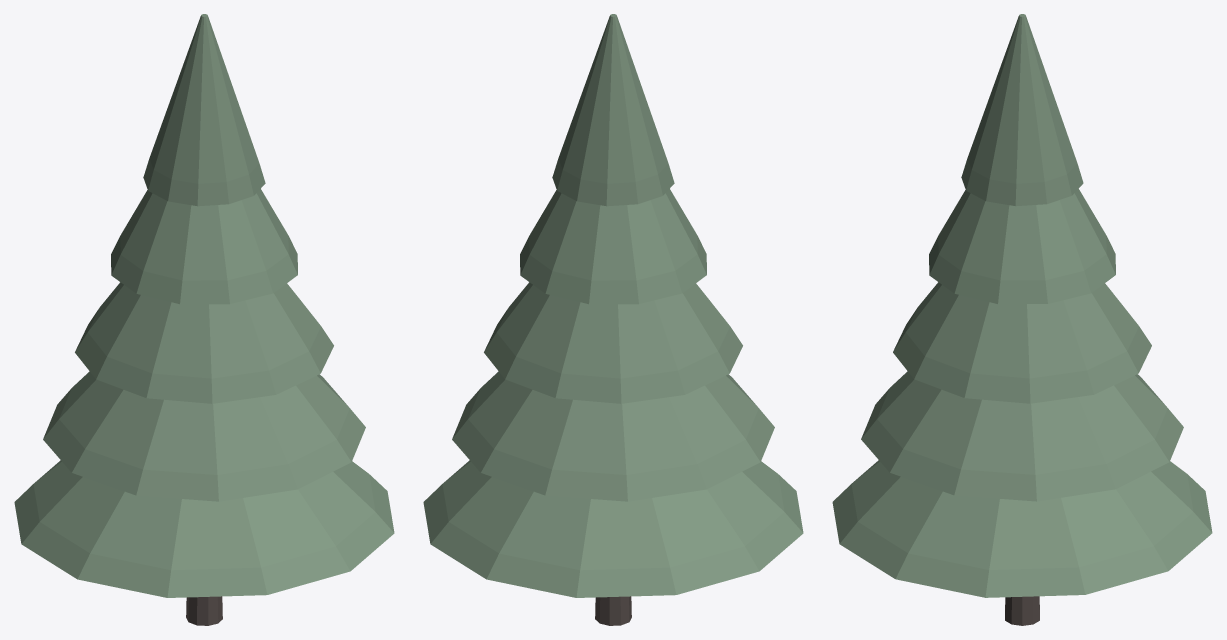
Rendered from a-low-poly-pine-tree-8-metres-tall-85320-lowpoly.glb.
The picture shows the model from 3 angles, left to right: view 1: azimuth 30°, elevation 25°; view 2: azimuth 150°, elevation 25°; view 3: azimuth 270°, elevation 25°; orthographic projection.
Visible parts, largest first — view 1: tree; view 2: tree; view 3: tree.
Part boxes in pixels (x1=…): tree: x1=14, y1=14, x2=394, y2=625; tree: x1=423, y1=14, x2=803, y2=625; tree: x1=832, y1=14, x2=1212, y2=625.
Size of the model in its own units: 5.44 by 9.52 by 5.44.
